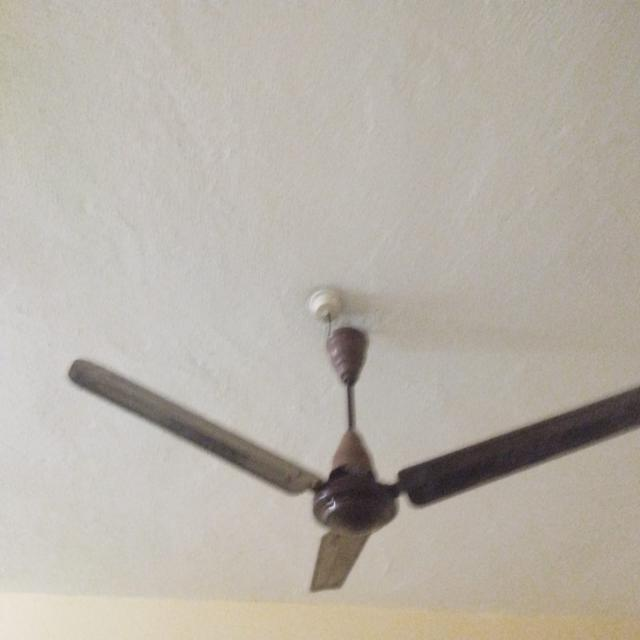fan_off: (70, 326, 640, 596)
